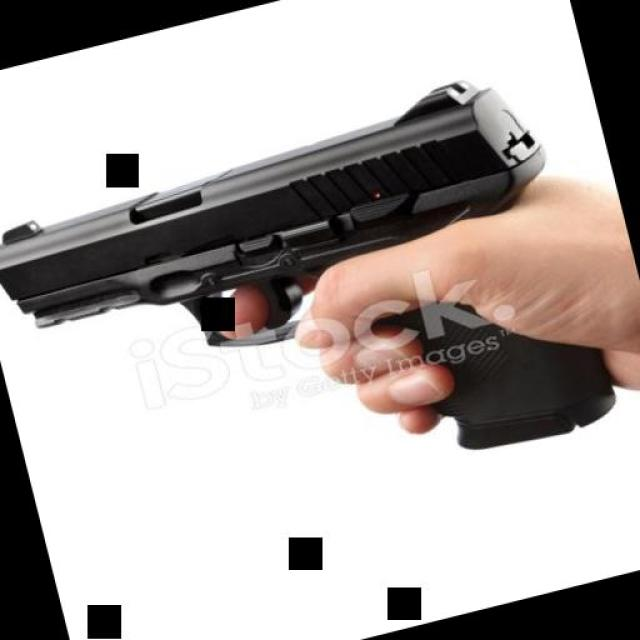gun: (0, 46, 621, 560)
